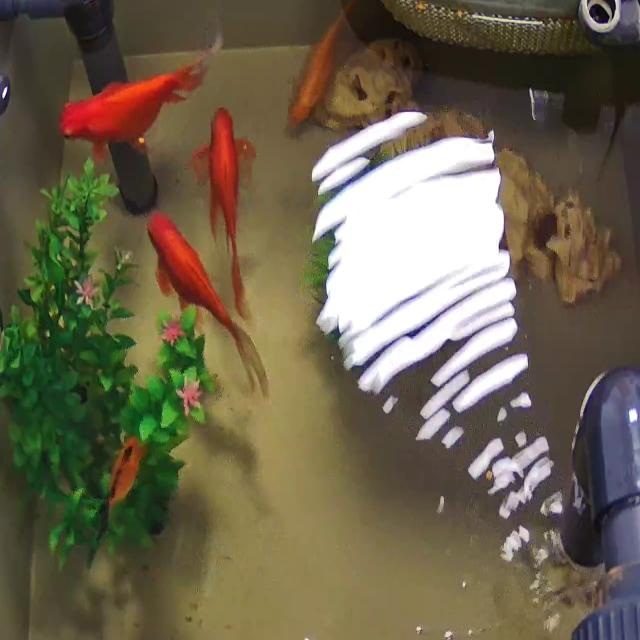fish: (133, 205, 274, 400), (59, 15, 221, 182), (185, 108, 267, 307), (275, 0, 367, 134), (86, 430, 148, 553)
